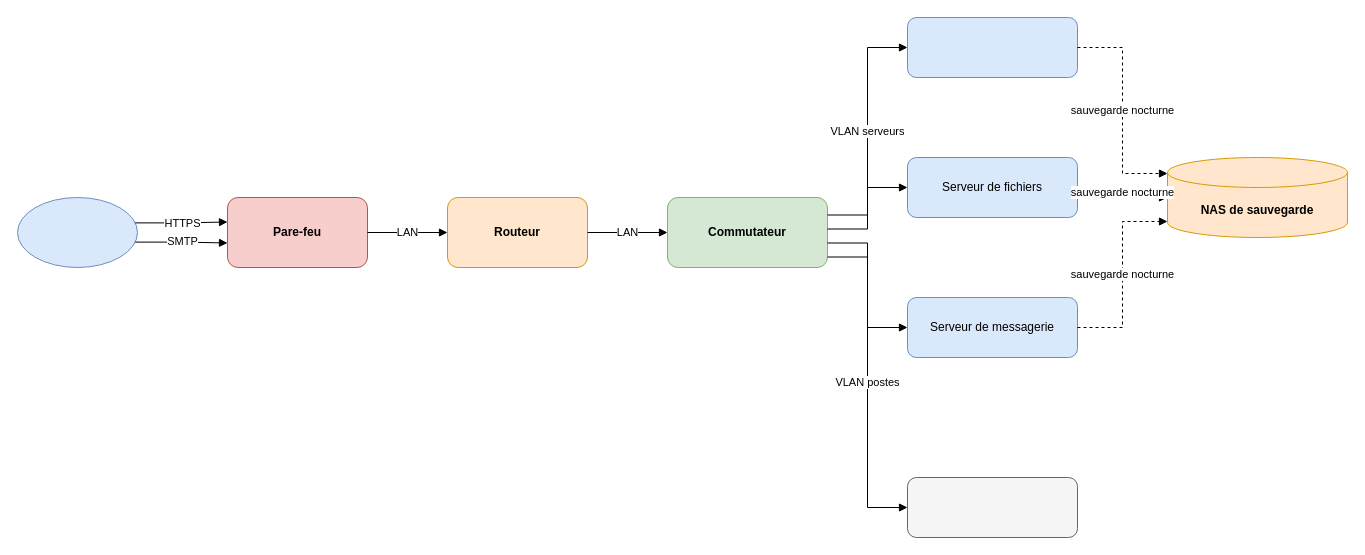
Image size: 1365x555. Some labels were removed from this diagram. The shapes that lost their labels are listed below. From the top down, each one's centre as x and y in pixels, then its label:
pixel 992 47: Serveur web
pixel 77 232: Internet
pixel 992 507: Postes de travail
